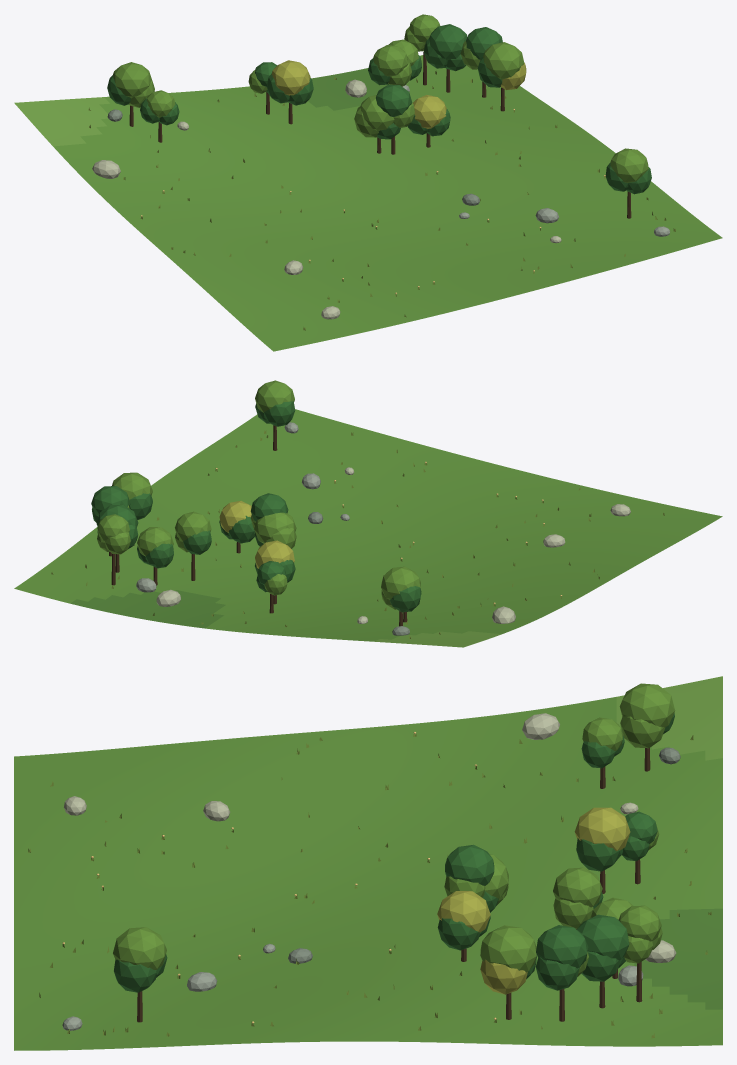
File: Chunk_X-1_Y0_Z0.fbx
3 renders of one model, top to bottom at view 1: azimuth 30°, elevation 25°; view 2: azimuth 150°, elevation 25°; view 3: azimuth 270°, elevation 25°, orthographic. The views are drawn at different scales.
Parts seen in each view (by area): view 1: Terrain.017, Canopies.017, Rocks.017, Trunks.017, GroundCover.017; view 2: Terrain.017, Canopies.017, Rocks.017, Trunks.017, GroundCover.017; view 3: Terrain.017, Canopies.017, Rocks.017, Trunks.017, GroundCover.017.
Boxes of the visible parts, x1=… form: Terrain.017: x1=14, y1=55, x2=722, y2=351; Canopies.017: x1=107, y1=14, x2=651, y2=194; Rocks.017: x1=92, y1=79, x2=670, y2=319; Trunks.017: x1=129, y1=52, x2=631, y2=218; GroundCover.017: x1=88, y1=71, x2=675, y2=330; Terrain.017: x1=14, y1=409, x2=722, y2=647; Canopies.017: x1=91, y1=380, x2=421, y2=612; Rocks.017: x1=136, y1=422, x2=630, y2=635; Trunks.017: x1=109, y1=425, x2=407, y2=626; GroundCover.017: x1=51, y1=430, x2=664, y2=638; Terrain.017: x1=14, y1=676, x2=722, y2=1050; Canopies.017: x1=113, y1=683, x2=675, y2=994; Rocks.017: x1=62, y1=713, x2=680, y2=1030; Trunks.017: x1=137, y1=748, x2=650, y2=1022; GroundCover.017: x1=28, y1=732, x2=711, y2=1038.
Bounding box in the file's own units: 100 × 21.61 × 100.
